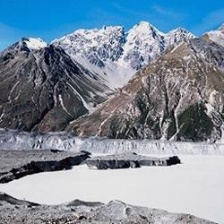neutral: (4, 7, 224, 204)
